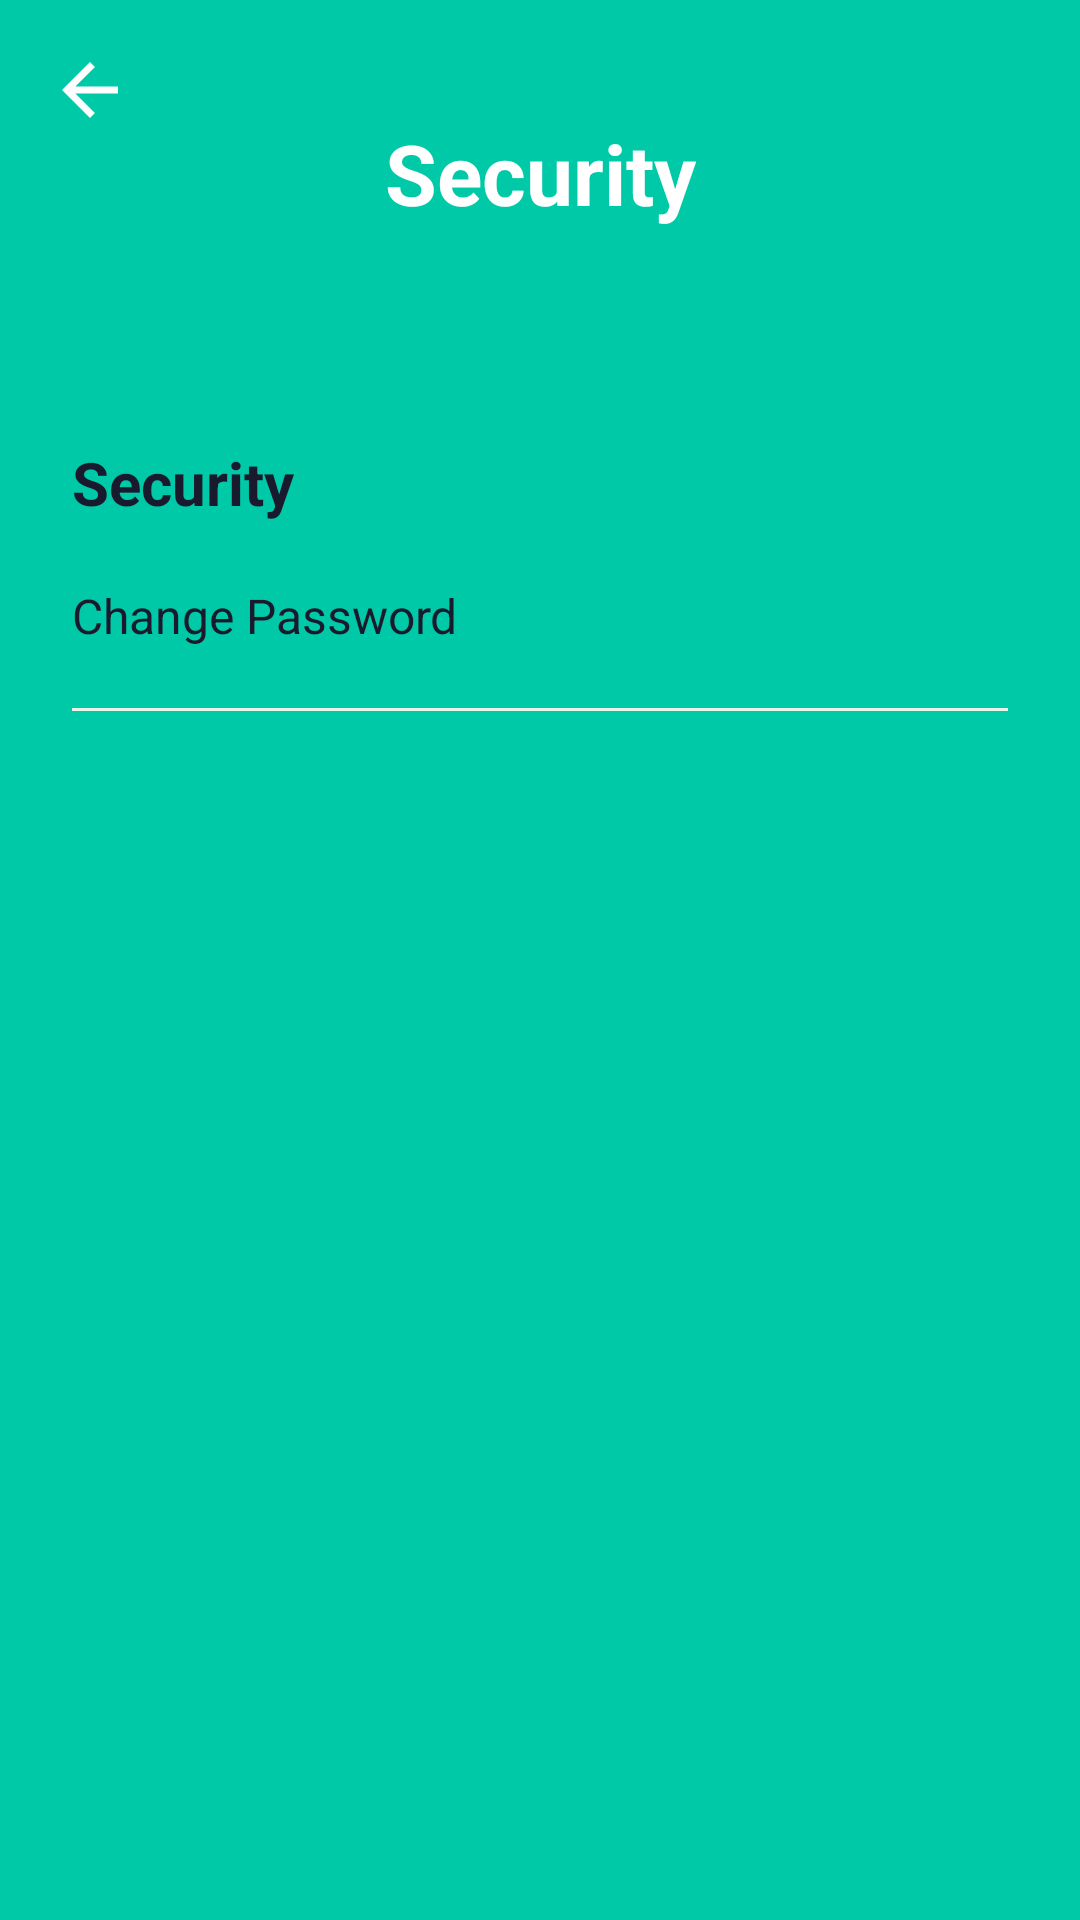

Named icons in this screenshot (1080x1920) and their bounding boxes, (x1=x1, y1=y1, x2=x2, y2=y2):
Back: (x1=62, y1=62, x2=118, y2=118)
